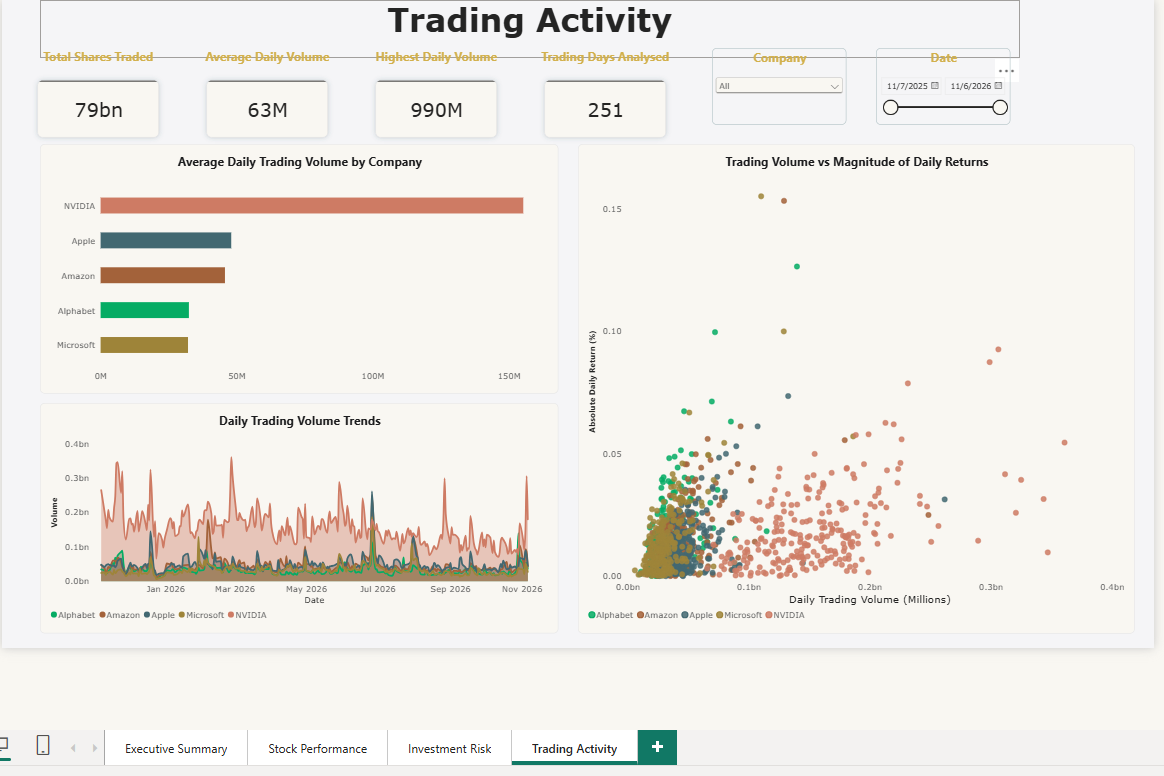

The page's visual inventory and layout, read from the dashboard file:
{"tool":"powerbi","page":{"name":"Trading Activity","canvas":[1920,1080],"ordinal":3},"visuals":[{"type":"areaChart","title":"Daily Trading Volume Trends","fields":{"Category":["LocalDateTable_cead320a-16ea-40d0-a2f5-06fa50b2885f.Date"],"Series":["DimCompany.CompanyName"],"Y":["Sum(FactStockPrices.Volume)"]},"box":[64,672,864,384],"z":0},{"type":"clusteredBarChart","title":"Average Daily Trading Volume by Company","fields":{"Category":["DimCompany.CompanyName"],"Y":["Measure Table.Average Daily Trading Volume"]},"box":[64,240,864,416],"z":1000},{"type":"scatterChart","title":"Trading Volume vs Magnitude of Daily Returns","fields":{"Category":["LocalDateTable_cead320a-16ea-40d0-a2f5-06fa50b2885f.Date"],"Series":["DimCompany.CompanyName"],"X":["Measure Table.Total Trading Volume"],"Y":["Measure Table.Absolute Daily Return"]},"box":[960,240,928,816],"z":2000},{"type":"textbox","box":[64,0,1632,96],"z":3000},{"type":"cardVisual","title":"Total Shares Traded","fields":{"Data":["Measure Table.Total Trading Volume"]},"box":[48,80,224,160],"z":4000},{"type":"cardVisual","title":"Trading Days Analysed","fields":{"Data":["Measure Table.Trading Days Analysed"]},"box":[892.8,80,224,160],"z":5000},{"type":"cardVisual","title":"Highest Daily Volume","fields":{"Data":["Measure Table.Highest Daily Trading Volume"]},"box":[611.2,80,224,160],"z":6000},{"type":"cardVisual","title":"Average Daily Volume","fields":{"Data":["Measure Table.Average Daily Trading Volume"]},"box":[329.6,80,224,160],"z":7000},{"type":"slicer","title":"Company","fields":{"Values":["DimCompany.CompanyName"]},"box":[1184,80,224,128],"z":8000},{"type":"slicer","title":"Date","fields":{"Values":["DimDate.Date"]},"box":[1456,80,224,128],"z":9000}]}

Visuals, with their boxes on the page's 1920x1080 design canvas (x1, y1, x2, y2). These are canvas units, not pixel positions in the 1164x776 screenshot, which may show the page scaled, cropped or inside an application window:
"Daily Trading Volume Trends" areaChart: locate(64, 672, 928, 1056)
"Average Daily Trading Volume by Company" clusteredBarChart: locate(64, 240, 928, 656)
"Trading Volume vs Magnitude of Daily Returns" scatterChart: locate(960, 240, 1888, 1056)
textbox: locate(64, 0, 1696, 96)
"Total Shares Traded" cardVisual: locate(48, 80, 272, 240)
"Trading Days Analysed" cardVisual: locate(893, 80, 1117, 240)
"Highest Daily Volume" cardVisual: locate(611, 80, 835, 240)
"Average Daily Volume" cardVisual: locate(330, 80, 554, 240)
"Company" slicer: locate(1184, 80, 1408, 208)
"Date" slicer: locate(1456, 80, 1680, 208)
